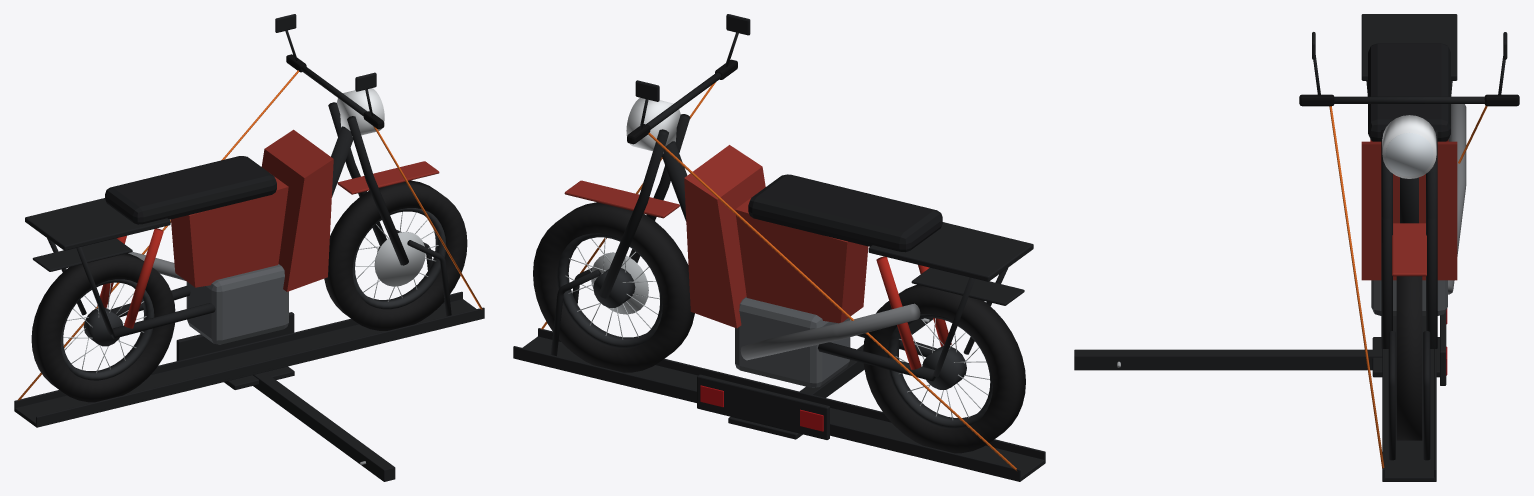
File: carrier_hillstone_ct125.glb
The picture shows the model from 3 angles, left to right: view 1: azimuth 30°, elevation 25°; view 2: azimuth 150°, elevation 25°; view 3: azimuth 270°, elevation 25°; orthographic projection. The views are drawn at different scales.
Visible parts, largest first — view 1: motoFTyre, motoRTyre, motoSideCover, motoLegShield, motoSeat, railFloor, motoEngine, railSide1, motoRack, shank.002, railSide-1, motoFDisc (+18 smaller); view 2: motoFTyre, motoRTyre, motoSideCover, motoLegShield, motoSeat, motoEngine, railFloor, motoRack, railSide-1, tailBoard, motoPipe, railSide1 (+18 smaller); view 3: shank.002, motoLegShield, motoSeat, motoFTyre, motoRack, railFloor, motoFork1, motoFork-1, motoGuard, motoLampLens, motoPipe, motoLamp (+8 smaller).
Part boxes in pixels (<box>): motoFTyre: <box>324,180,467,330</box>; motoRTyre: <box>31,253,175,402</box>; motoSideCover: <box>171,176,288,287</box>; motoLegShield: <box>261,129,333,291</box>; motoSeat: <box>105,156,276,224</box>; railFloor: <box>14,299,484,427</box>; motoEngine: <box>186,264,288,344</box>; railSide1: <box>36,307,484,425</box>; motoRack: <box>25,198,170,250</box>; shank.002: <box>253,372,395,481</box>; railSide-1: <box>14,291,462,409</box>; motoFDisc: <box>374,231,425,286</box>; motoFTyre: <box>533,202,694,372</box>; motoRTyre: <box>863,284,1025,453</box>; motoSideCover: <box>735,193,868,323</box>; motoLegShield: <box>684,145,765,328</box>; motoSeat: <box>748,174,942,252</box>; motoEngine: <box>735,297,850,387</box>; railFloor: <box>513,336,1045,481</box>; motoRack: <box>868,222,1033,281</box>; railSide-1: <box>513,346,1020,479</box>; tailBoard: <box>697,374,829,439</box>; motoPipe: <box>740,303,920,360</box>; railSide1: <box>538,328,1045,460</box>; shank.002: <box>1074,349,1382,370</box>; motoLegShield: <box>1361,141,1457,280</box>; motoSeat: <box>1368,43,1450,141</box>; motoFTyre: <box>1396,276,1422,440</box>; motoRack: <box>1361,14,1457,80</box>; railFloor: <box>1382,316,1436,481</box>; motoFork1: <box>1381,129,1392,348</box>; motoFork-1: <box>1426,130,1437,348</box>; motoGuard: <box>1392,223,1426,276</box>; motoLampLens: <box>1385,132,1433,176</box>; motoPipe: <box>1448,104,1466,294</box>; motoLamp: <box>1382,115,1436,178</box>.
Size of the model in its own units: 1.93 by 1.29 by 1.39.
